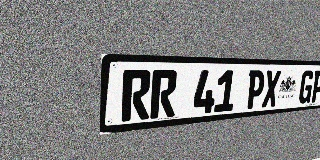1: (214, 70, 237, 112)
4: (193, 70, 217, 114)
G: (298, 70, 315, 104)
P: (245, 70, 266, 109), (310, 70, 320, 103)
R: (121, 70, 151, 122), (150, 70, 178, 119)
X: (261, 70, 281, 108)
